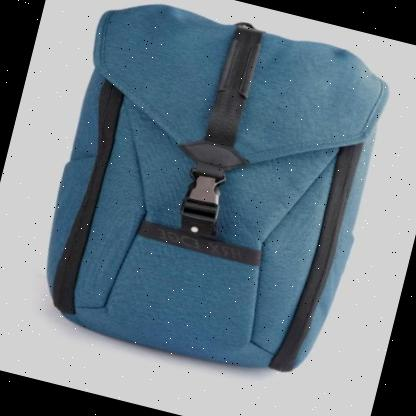bag: (22, 0, 406, 394)
